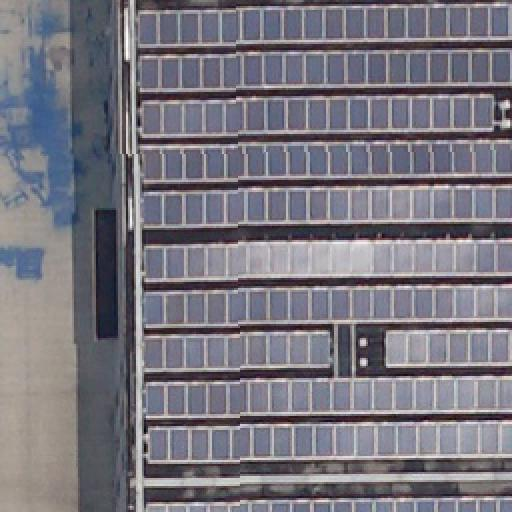solar-panel: (134, 4, 512, 464), (144, 496, 512, 512)
